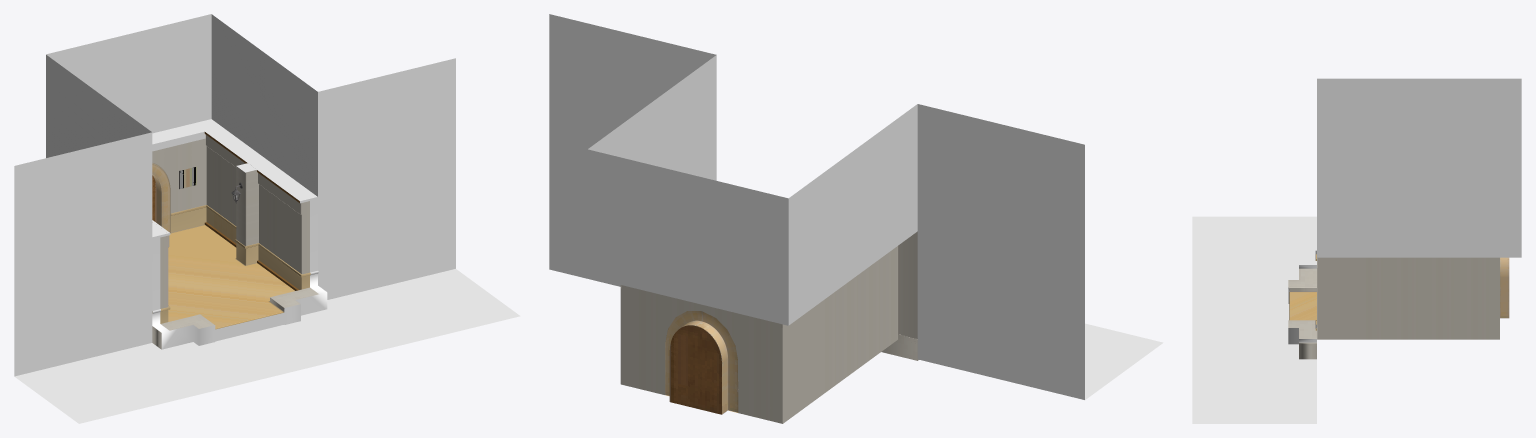
File: a_com_house_a01.gltf
3 renders of one model, left to right at view 1: azimuth 30°, elevation 25°; view 2: azimuth 150°, elevation 25°; view 3: azimuth 270°, elevation 25°, orthographic. The views are drawn at different scales.
Visible parts, largest first — view 1: outside_black_mesh_shape:a_com_house_a01_outside_black01, um_a_com_house_a01_model_a_com_house_a01_modelShape:a_com_ho (×8), nomerge_outside_edge_shape:mat_texture_edge01; view 2: outside_black_mesh_shape:a_com_house_a01_outside_black01, um_a_com_house_a01_model_a_com_house_a01_modelShape:a_com_ho (×4); view 3: outside_black_mesh_shape:a_com_house_a01_outside_black01, um_a_com_house_a01_model_a_com_house_a01_modelShape:a_com_ho (×4), nomerge_outside_edge_shape:mat_texture_edge01.
Boxes of the visible parts, bbox=[...] form: outside_black_mesh_shape:a_com_house_a01_outside_black01: bbox=[14, 14, 520, 423]; um_a_com_house_a01_model_a_com_house_a01_modelShape:a_com_ho (×8): bbox=[152, 132, 318, 349]; nomerge_outside_edge_shape:mat_texture_edge01: bbox=[152, 131, 327, 349]; outside_black_mesh_shape:a_com_house_a01_outside_black01: bbox=[549, 14, 1163, 399]; um_a_com_house_a01_model_a_com_house_a01_modelShape:a_com_ho (×4): bbox=[620, 231, 918, 423]; outside_black_mesh_shape:a_com_house_a01_outside_black01: bbox=[1192, 78, 1521, 423]; um_a_com_house_a01_model_a_com_house_a01_modelShape:a_com_ho (×4): bbox=[1288, 257, 1509, 359]; nomerge_outside_edge_shape:mat_texture_edge01: bbox=[1288, 250, 1316, 344].
Size of the model in its own units: 14 by 6.42 by 9.4.
15 materials, 13 textured.
